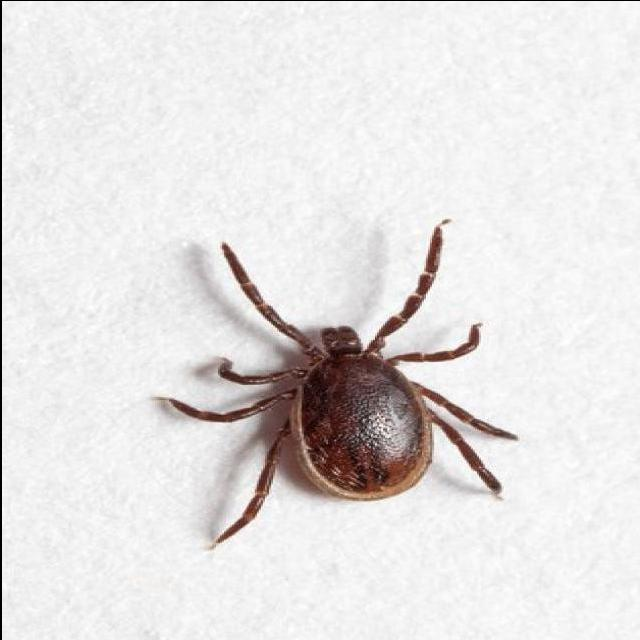Ixodes Ricinus-M: (153, 217, 514, 547)
